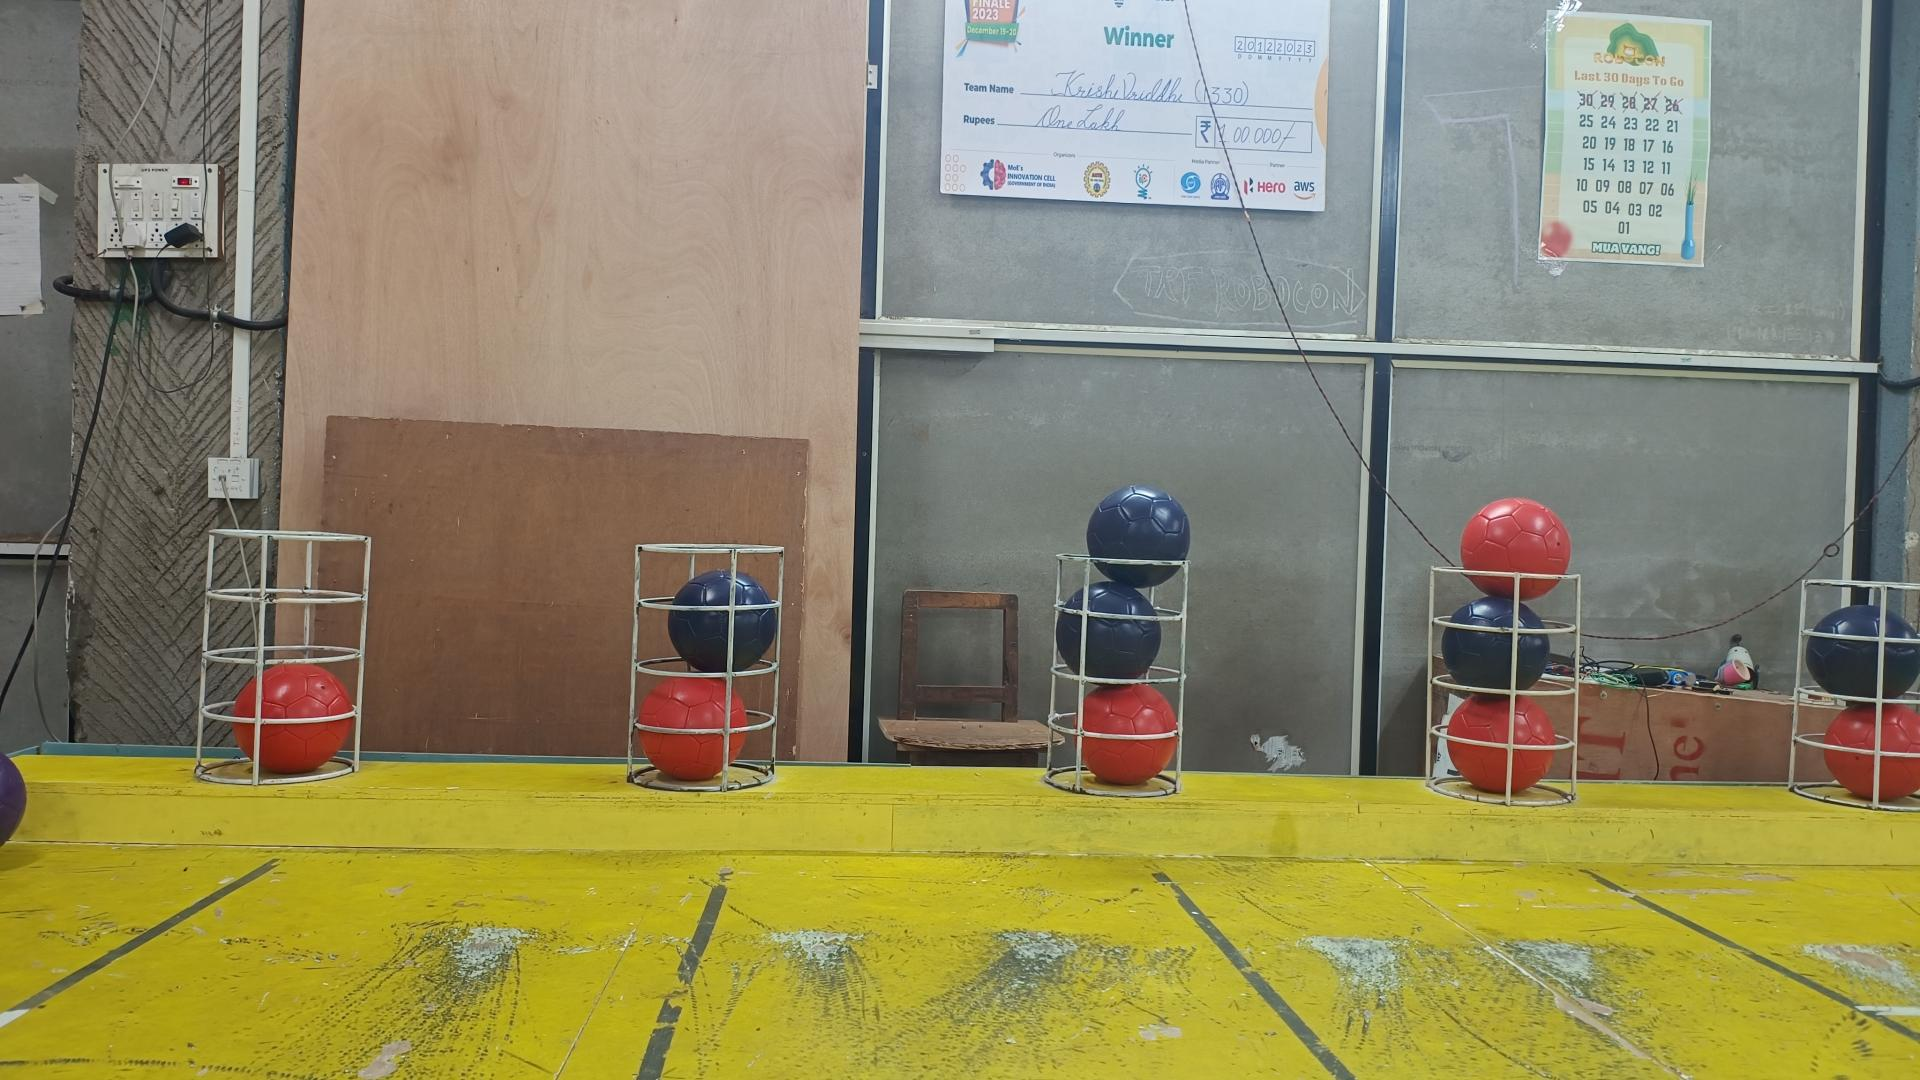dhoka: (667, 570, 781, 675), (1804, 604, 1920, 698), (1054, 582, 1163, 679), (1440, 596, 1548, 690), (1088, 488, 1188, 588)
laale: (232, 663, 352, 773), (637, 675, 750, 781), (1458, 498, 1572, 600), (1448, 694, 1556, 791), (1076, 683, 1178, 783), (1822, 705, 1920, 806)
